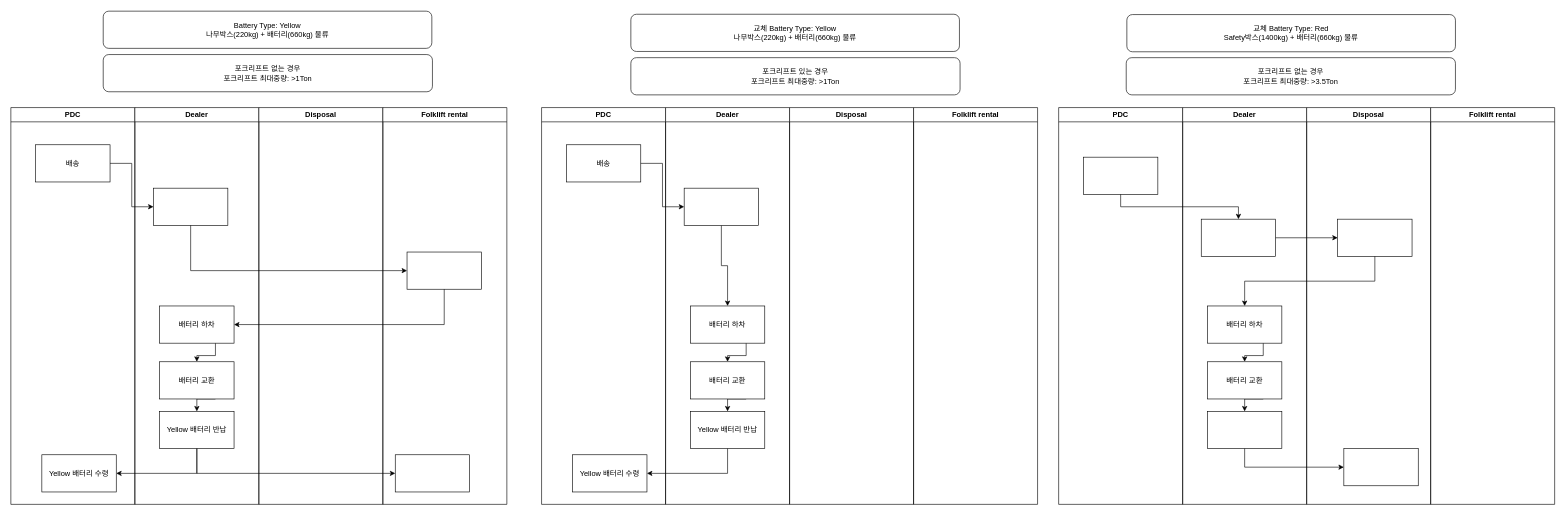
Image size: 1566x515. Some labels were removed from this diagram. The shapes that lost their labels are listed below. From the top down, each one's centre as x and y in pixels, then its label:
point 1120,175: Safety Box & 배터리배송
point 190,206: 포크리프트 렌탈 신청
point 721,206: 자체 포크리프트 사용
point 1238,237: Disposal 업체 연락
point 1374,237: 포크리프트 & 배터리 트럭 배송
point 443,270: 포크리프트 발송
point 1244,430: Red 배터리 반납
point 432,473: 포크리프트 반납
point 1380,467: Red 배터리 재활용 (원자재)
